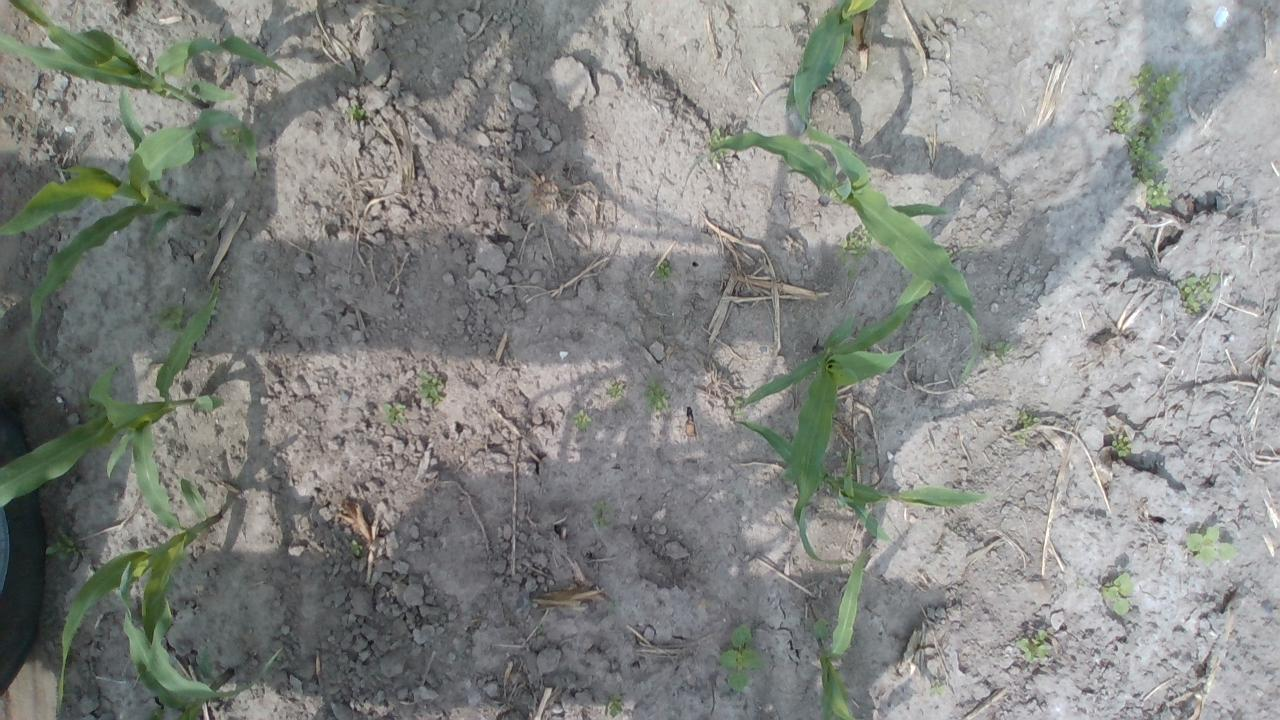Maize: (706, 85, 982, 379), (0, 88, 266, 376), (54, 420, 282, 709), (742, 273, 934, 566), (0, 273, 221, 505), (736, 417, 990, 550), (0, 3, 295, 114), (112, 560, 234, 720), (785, 0, 877, 124), (811, 553, 873, 720)
Weeds: (718, 624, 770, 692), (1128, 134, 1173, 209), (1127, 63, 1185, 114), (1180, 273, 1220, 315), (1134, 110, 1176, 146), (1102, 571, 1134, 618), (836, 226, 874, 264), (1187, 528, 1232, 560), (1014, 628, 1052, 662), (150, 306, 192, 336), (1110, 96, 1136, 135), (46, 531, 77, 562), (418, 371, 442, 405), (644, 382, 670, 412), (192, 132, 219, 160), (194, 656, 222, 680), (382, 402, 408, 426), (1111, 434, 1134, 459), (988, 340, 1013, 363), (78, 392, 99, 419), (591, 502, 611, 530), (843, 447, 863, 475), (1016, 410, 1041, 431), (572, 410, 594, 432), (606, 694, 626, 718), (708, 127, 731, 147), (220, 127, 242, 146), (656, 260, 672, 281), (346, 105, 366, 120), (350, 538, 366, 556), (709, 150, 727, 165), (608, 383, 625, 397), (930, 682, 944, 696), (208, 306, 220, 322), (734, 398, 744, 417), (848, 264, 858, 282), (1015, 430, 1026, 444), (148, 709, 160, 720), (784, 470, 792, 481), (112, 365, 120, 375)
